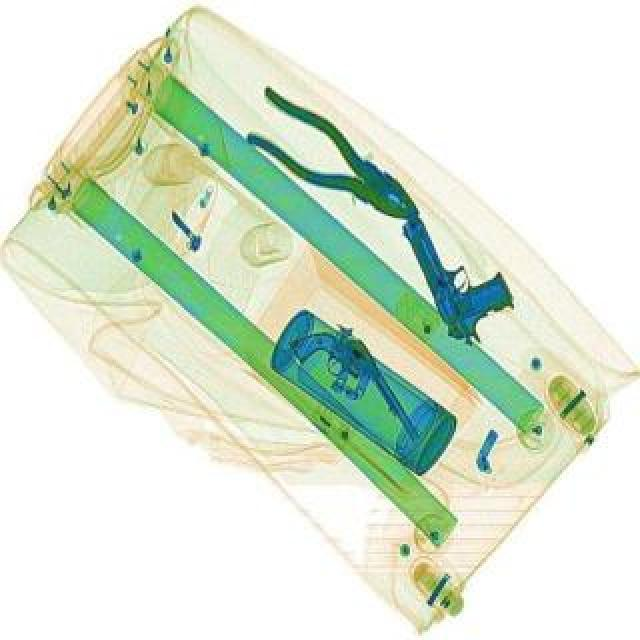gun: (396, 196, 526, 352), (290, 314, 422, 464)
wrench: (230, 82, 436, 240)
